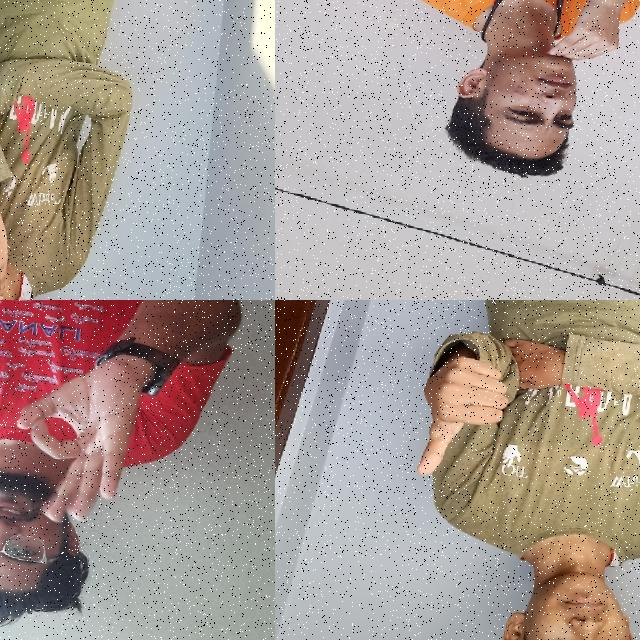Chin Flick: (433, 0, 639, 202)
Okay: (0, 348, 167, 541)
Thumbs Up: (398, 323, 522, 493)
